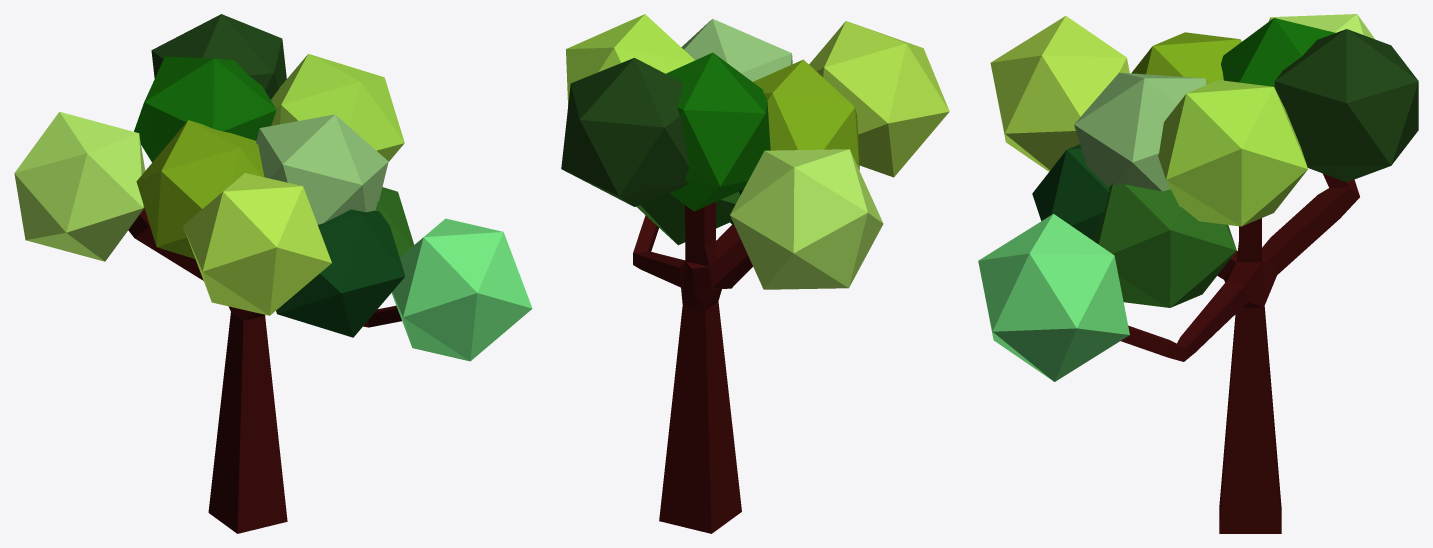
The model's file is tree1.fbx.
3 views of the same model, side by side, from view 1: azimuth 30°, elevation 25°; view 2: azimuth 150°, elevation 25°; view 3: azimuth 270°, elevation 25° (orthographic). The views are drawn at different scales.
Parts seen in each view (by area): view 1: Icosphere.001, Icosphere.002, Cube, Icosphere.003, Icosphere.005, Icosphere.008, Icosphere.006, Icosphere.004, Icosphere.007, Icosphere, Icosphere.009; view 2: Cube, Icosphere.001, Icosphere, Icosphere.002, Icosphere.004, Icosphere.006, Icosphere.007, Icosphere.005, Icosphere.009; view 3: Cube, Icosphere.003, Icosphere.007, Icosphere, Icosphere.002, Icosphere.009, Icosphere.005, Icosphere.004, Icosphere.008, Icosphere.006, Icosphere.001.
Part boxes in pixels (<box>): Icosphere.001: <box>14,111,145,261</box>; Icosphere.002: <box>183,173,331,315</box>; Cube: <box>128,208,401,533</box>; Icosphere.003: <box>391,218,532,361</box>; Icosphere.005: <box>256,114,388,224</box>; Icosphere.008: <box>276,209,405,337</box>; Icosphere.006: <box>136,120,264,258</box>; Icosphere.004: <box>134,56,275,162</box>; Icosphere.007: <box>271,54,404,161</box>; Icosphere: <box>151,14,286,99</box>; Icosphere.009: <box>375,187,414,256</box>; Cube: <box>633,202,752,533</box>; Icosphere.001: <box>730,149,883,289</box>; Icosphere: <box>561,58,689,206</box>; Icosphere.002: <box>809,21,949,177</box>; Icosphere.004: <box>666,52,770,211</box>; Icosphere.006: <box>753,59,859,170</box>; Icosphere.007: <box>566,14,694,105</box>; Icosphere.005: <box>681,18,792,81</box>; Icosphere.009: <box>636,191,740,245</box>; Cube: <box>1121,173,1359,533</box>; Icosphere.003: <box>978,214,1129,381</box>; Icosphere.007: <box>1158,80,1307,226</box>; Icosphere: <box>1274,29,1418,182</box>; Icosphere.002: <box>990,16,1129,171</box>; Icosphere.009: <box>1091,183,1236,307</box>; Icosphere.005: <box>1074,72,1207,191</box>; Icosphere.004: <box>1221,18,1335,87</box>; Icosphere.008: <box>1032,144,1109,239</box>; Icosphere.006: <box>1131,32,1241,84</box>; Icosphere.001: <box>1268,14,1374,39</box>.
Bounding box in the file's own units: 625 × 731 × 582.
